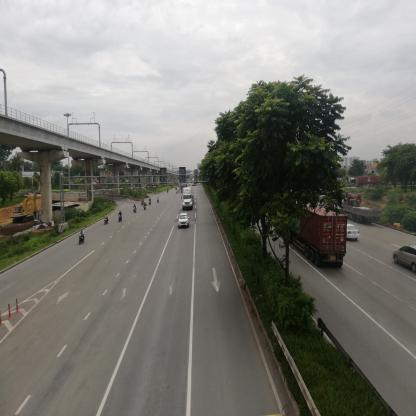car: (392, 236, 416, 273), (348, 223, 360, 241), (180, 213, 190, 229)
container: (281, 198, 347, 269), (183, 189, 194, 209)
motorbike: (79, 230, 87, 249), (104, 214, 110, 227), (119, 213, 124, 223), (150, 199, 153, 205), (135, 206, 137, 212), (145, 205, 147, 211)
